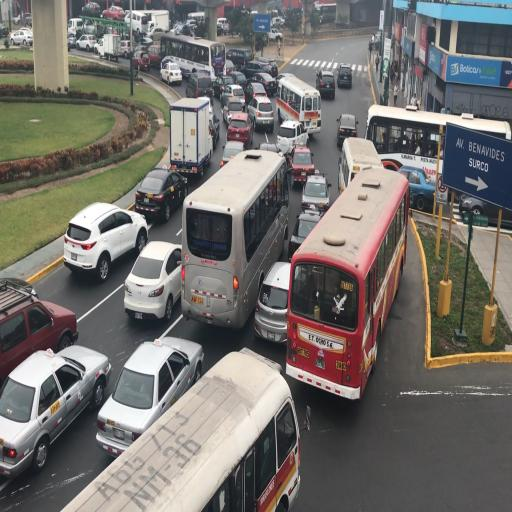auto: (56, 346, 290, 510), (0, 345, 111, 484), (96, 333, 202, 453), (2, 276, 76, 405), (63, 196, 147, 276), (123, 239, 184, 322), (181, 250, 240, 327), (255, 260, 291, 341), (136, 164, 189, 219), (286, 209, 324, 261), (399, 166, 437, 214), (300, 172, 330, 215), (289, 145, 318, 188), (276, 118, 305, 159), (225, 113, 253, 151), (248, 94, 274, 133), (186, 70, 214, 100), (246, 71, 276, 98), (222, 93, 246, 126), (221, 138, 247, 168), (245, 58, 278, 81), (336, 112, 356, 148), (213, 72, 238, 100), (316, 67, 336, 99), (143, 42, 163, 68), (161, 62, 183, 85), (225, 69, 247, 91), (211, 42, 226, 74), (131, 49, 151, 71), (336, 64, 352, 90), (75, 34, 98, 52), (209, 109, 220, 146), (10, 28, 32, 46), (102, 5, 125, 21), (97, 39, 114, 60), (117, 40, 136, 58), (80, 18, 98, 37), (67, 17, 83, 37), (81, 2, 102, 16), (171, 22, 191, 36), (147, 27, 167, 40), (222, 58, 236, 76), (192, 22, 207, 38), (216, 18, 230, 35), (257, 142, 278, 153), (138, 34, 154, 48), (268, 28, 283, 42), (161, 56, 175, 70), (270, 16, 284, 28), (205, 95, 213, 116), (67, 34, 77, 49), (0, 22, 9, 38), (12, 13, 23, 25), (25, 14, 32, 27)
bus: (291, 161, 405, 393), (365, 104, 509, 222), (338, 136, 383, 200), (277, 73, 321, 137), (227, 47, 254, 73), (245, 9, 267, 35), (314, 1, 337, 24), (186, 12, 204, 24), (267, 9, 280, 25)
